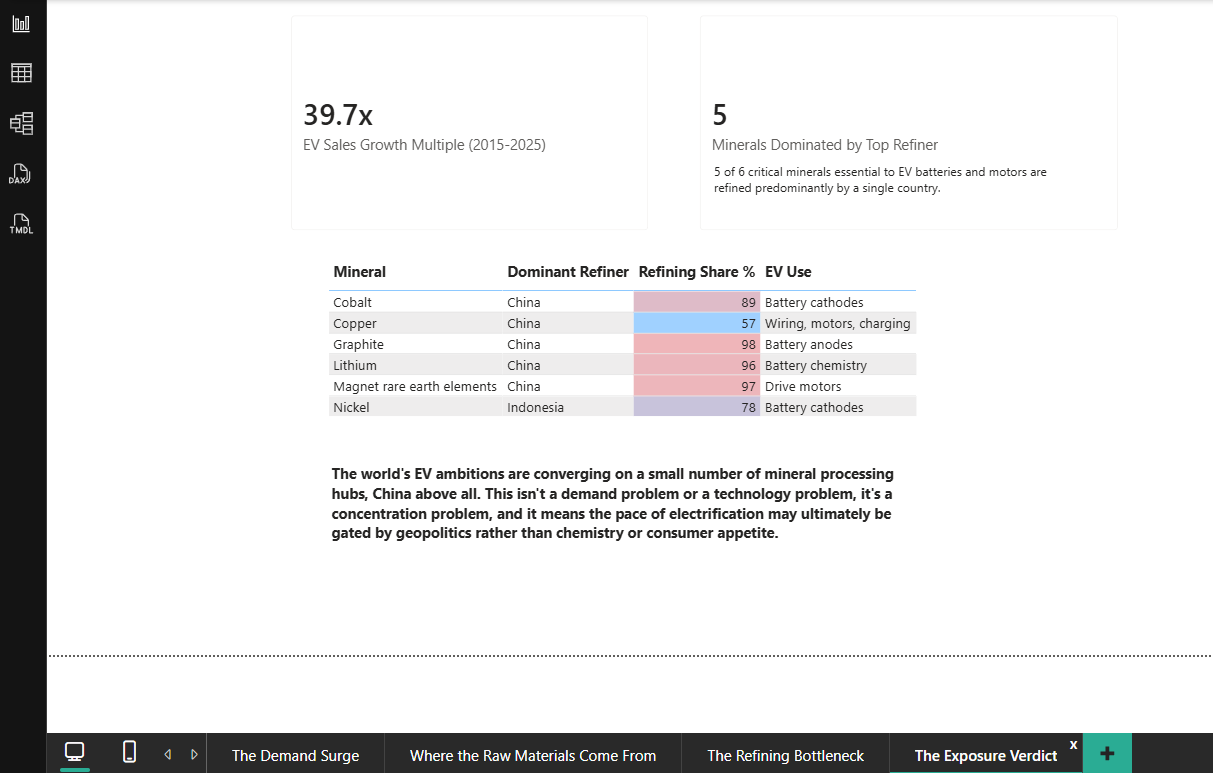

What the dashboard file says about the page in this screenshot:
{"tool":"powerbi","page":{"name":"The Exposure Verdict","canvas":[1280,720],"ordinal":3},"visuals":[{"type":"cardVisual","fields":{"Data":["ExposureSummary.Minerals Dominated by Top Refiner"]},"box":[699.8,0,494,270.3],"z":0},{"type":"textbox","box":[727.3,174.3,389.7,46.7],"z":1000},{"type":"tableEx","fields":{"Values":["ExposureSummary.Mineral","ExposureSummary.Dominant Refiner","ExposureSummary.Refining Share %","ExposureSummary.EV Use"]},"box":[303.3,279.9,933.1,264.8],"z":2000},{"type":"textbox","box":[307.4,503.6,664.2,155.1],"z":3000},{"type":"cardVisual","fields":{"Data":["EV_Historical.EV Sales Growth Multiple (2015-2024)"]},"box":[251.1,0,426.8,270.3],"z":4000}]}

Visuals, with their boxes on the page's 1280x720 design canvas (x1, y1, x2, y2). These are canvas units, not pixel positions in the 1213x773 screenshot, which may show the page scaled, cropped or inside an application window:
cardVisual - ExposureSummary.Minerals Dominated by Top Refiner: BBox(700, 0, 1194, 270)
textbox: BBox(727, 174, 1117, 221)
tableEx - ExposureSummary.Mineral x ExposureSummary.Dominant Refiner: BBox(303, 280, 1236, 545)
textbox: BBox(307, 504, 972, 659)
cardVisual - EV_Historical.EV Sales Growth Multiple (2015-2024): BBox(251, 0, 678, 270)
